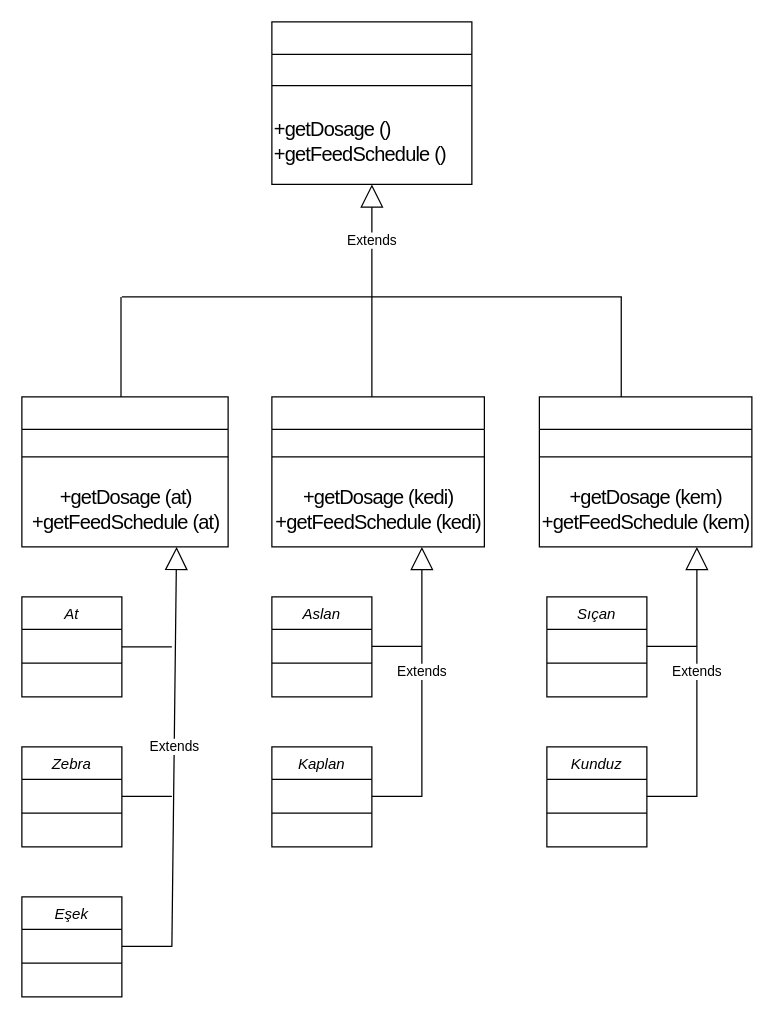
Some shapes in this 774 by 1019 pixel diagram are drawn without their labels. Here are the shapes that lost their labels. From the top down, the box of each, then its label:
(271, 21, 472, 184): Hayvanlar
(21, 396, 228, 547): Atlar
(271, 396, 484, 547): Kedigiller
(538, 396, 752, 547): Kemirgenler
